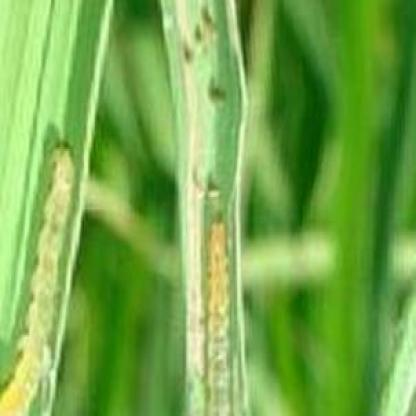leaf-folder: (10, 122, 104, 416), (191, 206, 259, 416)
